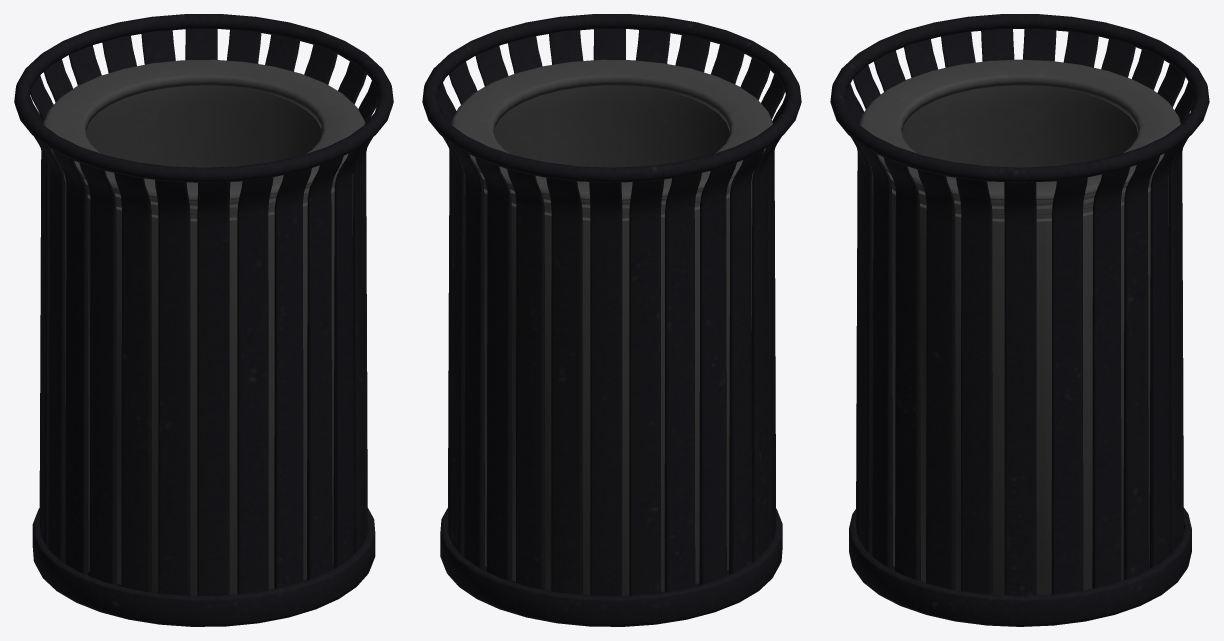
The model's file is 72404881-fbfd-4f8a-9382-bbf5ba77f16d.glb.
3 views of the same model, side by side, from view 1: azimuth 30°, elevation 25°; view 2: azimuth 150°, elevation 25°; view 3: azimuth 270°, elevation 25° (orthographic).
Visible parts, largest first — view 1: Trash-Can; view 2: Trash-Can; view 3: Trash-Can.
Boxes of the visible parts, left/top/right/bottom form: Trash-Can: left=14, top=14, right=393, bottom=626; Trash-Can: left=422, top=14, right=801, bottom=626; Trash-Can: left=830, top=14, right=1209, bottom=626.
Bounding box in the file's own units: 0.4916 × 0.666 × 0.4921.
Materials: 1 (1 with a texture image).
